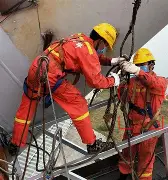safety belt: (47, 28, 88, 80), (124, 79, 160, 130)
